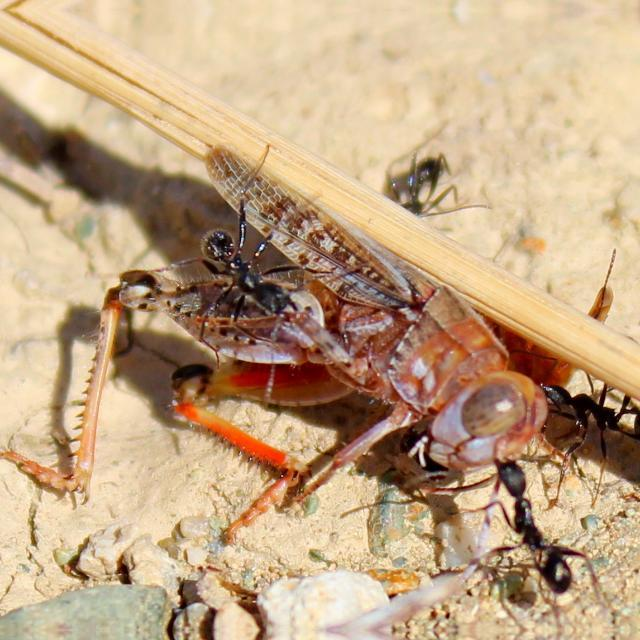Apheanogaster: (476, 443, 598, 612), (191, 214, 303, 330), (526, 362, 638, 464)
